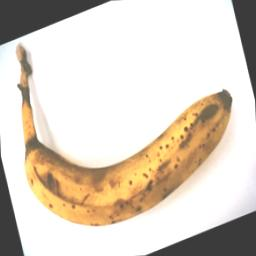Banana Overripe: (2, 64, 256, 255)
